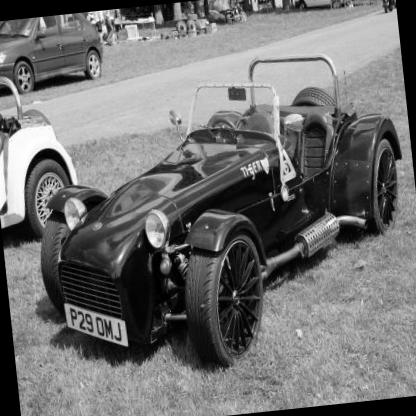car: (7, 37, 416, 384)
